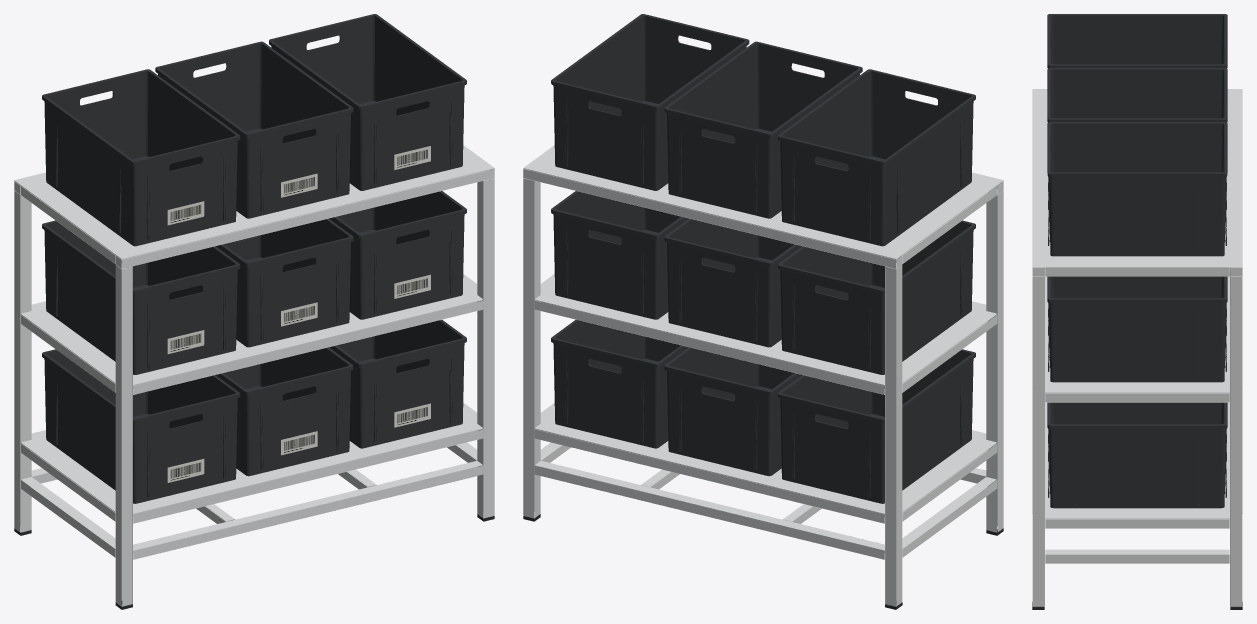
File: shelf_loaded_LOD1.glb
The picture shows the model from 3 angles, left to right: view 1: azimuth 30°, elevation 25°; view 2: azimuth 150°, elevation 25°; view 3: azimuth 270°, elevation 25°; orthographic projection. The views are drawn at different scales.
Visible parts, largest first — view 1: Rack_FrameAndDecks, Bin_L03_C01, Bin_L03_C02, Bin_L03_C03, Bin_L01_C01, Bin_L02_C01, Bin_L01_C03, Bin_L01_C02, Bin_L02_C02, Bin_L02_C03; view 2: Rack_FrameAndDecks, Bin_L03_C01, Bin_L03_C02, Bin_L03_C03, Bin_L01_C01, Bin_L02_C01, Bin_L01_C02, Bin_L01_C03, Bin_L02_C02, Bin_L02_C03; view 3: Rack_FrameAndDecks, Bin_L03_C03, Bin_L02_C03, Bin_L01_C03, Bin_L03_C02, Bin_L03_C01.
Boxes of the visible parts, x1,y1,x2,y2 form: Rack_FrameAndDecks: (14,145,494,606); Bin_L03_C01: (42,69,240,246); Bin_L03_C02: (155,41,353,218); Bin_L03_C03: (269,14,466,190); Bin_L01_C01: (42,349,240,503); Bin_L02_C01: (42,220,240,374); Bin_L01_C03: (329,320,466,448); Bin_L01_C02: (216,347,353,476); Bin_L02_C02: (216,218,353,347); Bin_L02_C03: (329,191,466,319); Rack_FrameAndDecks: (523,145,1003,606); Bin_L03_C01: (778,69,975,246); Bin_L03_C02: (664,41,862,218); Bin_L03_C03: (551,14,749,190); Bin_L01_C01: (778,349,975,503); Bin_L02_C01: (778,220,975,374); Bin_L01_C02: (664,347,801,476); Bin_L01_C03: (551,320,688,448); Bin_L02_C02: (664,218,802,347); Bin_L02_C03: (551,191,688,319); Rack_FrameAndDecks: (1032,89,1242,606); Bin_L03_C03: (1047,122,1227,256); Bin_L02_C03: (1047,276,1227,382); Bin_L01_C03: (1047,402,1227,508); Bin_L03_C02: (1047,68,1227,191); Bin_L03_C01: (1047,14,1227,68).
Bounding box in the file's own units: 1 × 1.12 × 0.5.
Materials: 4 (1 with a texture image).
